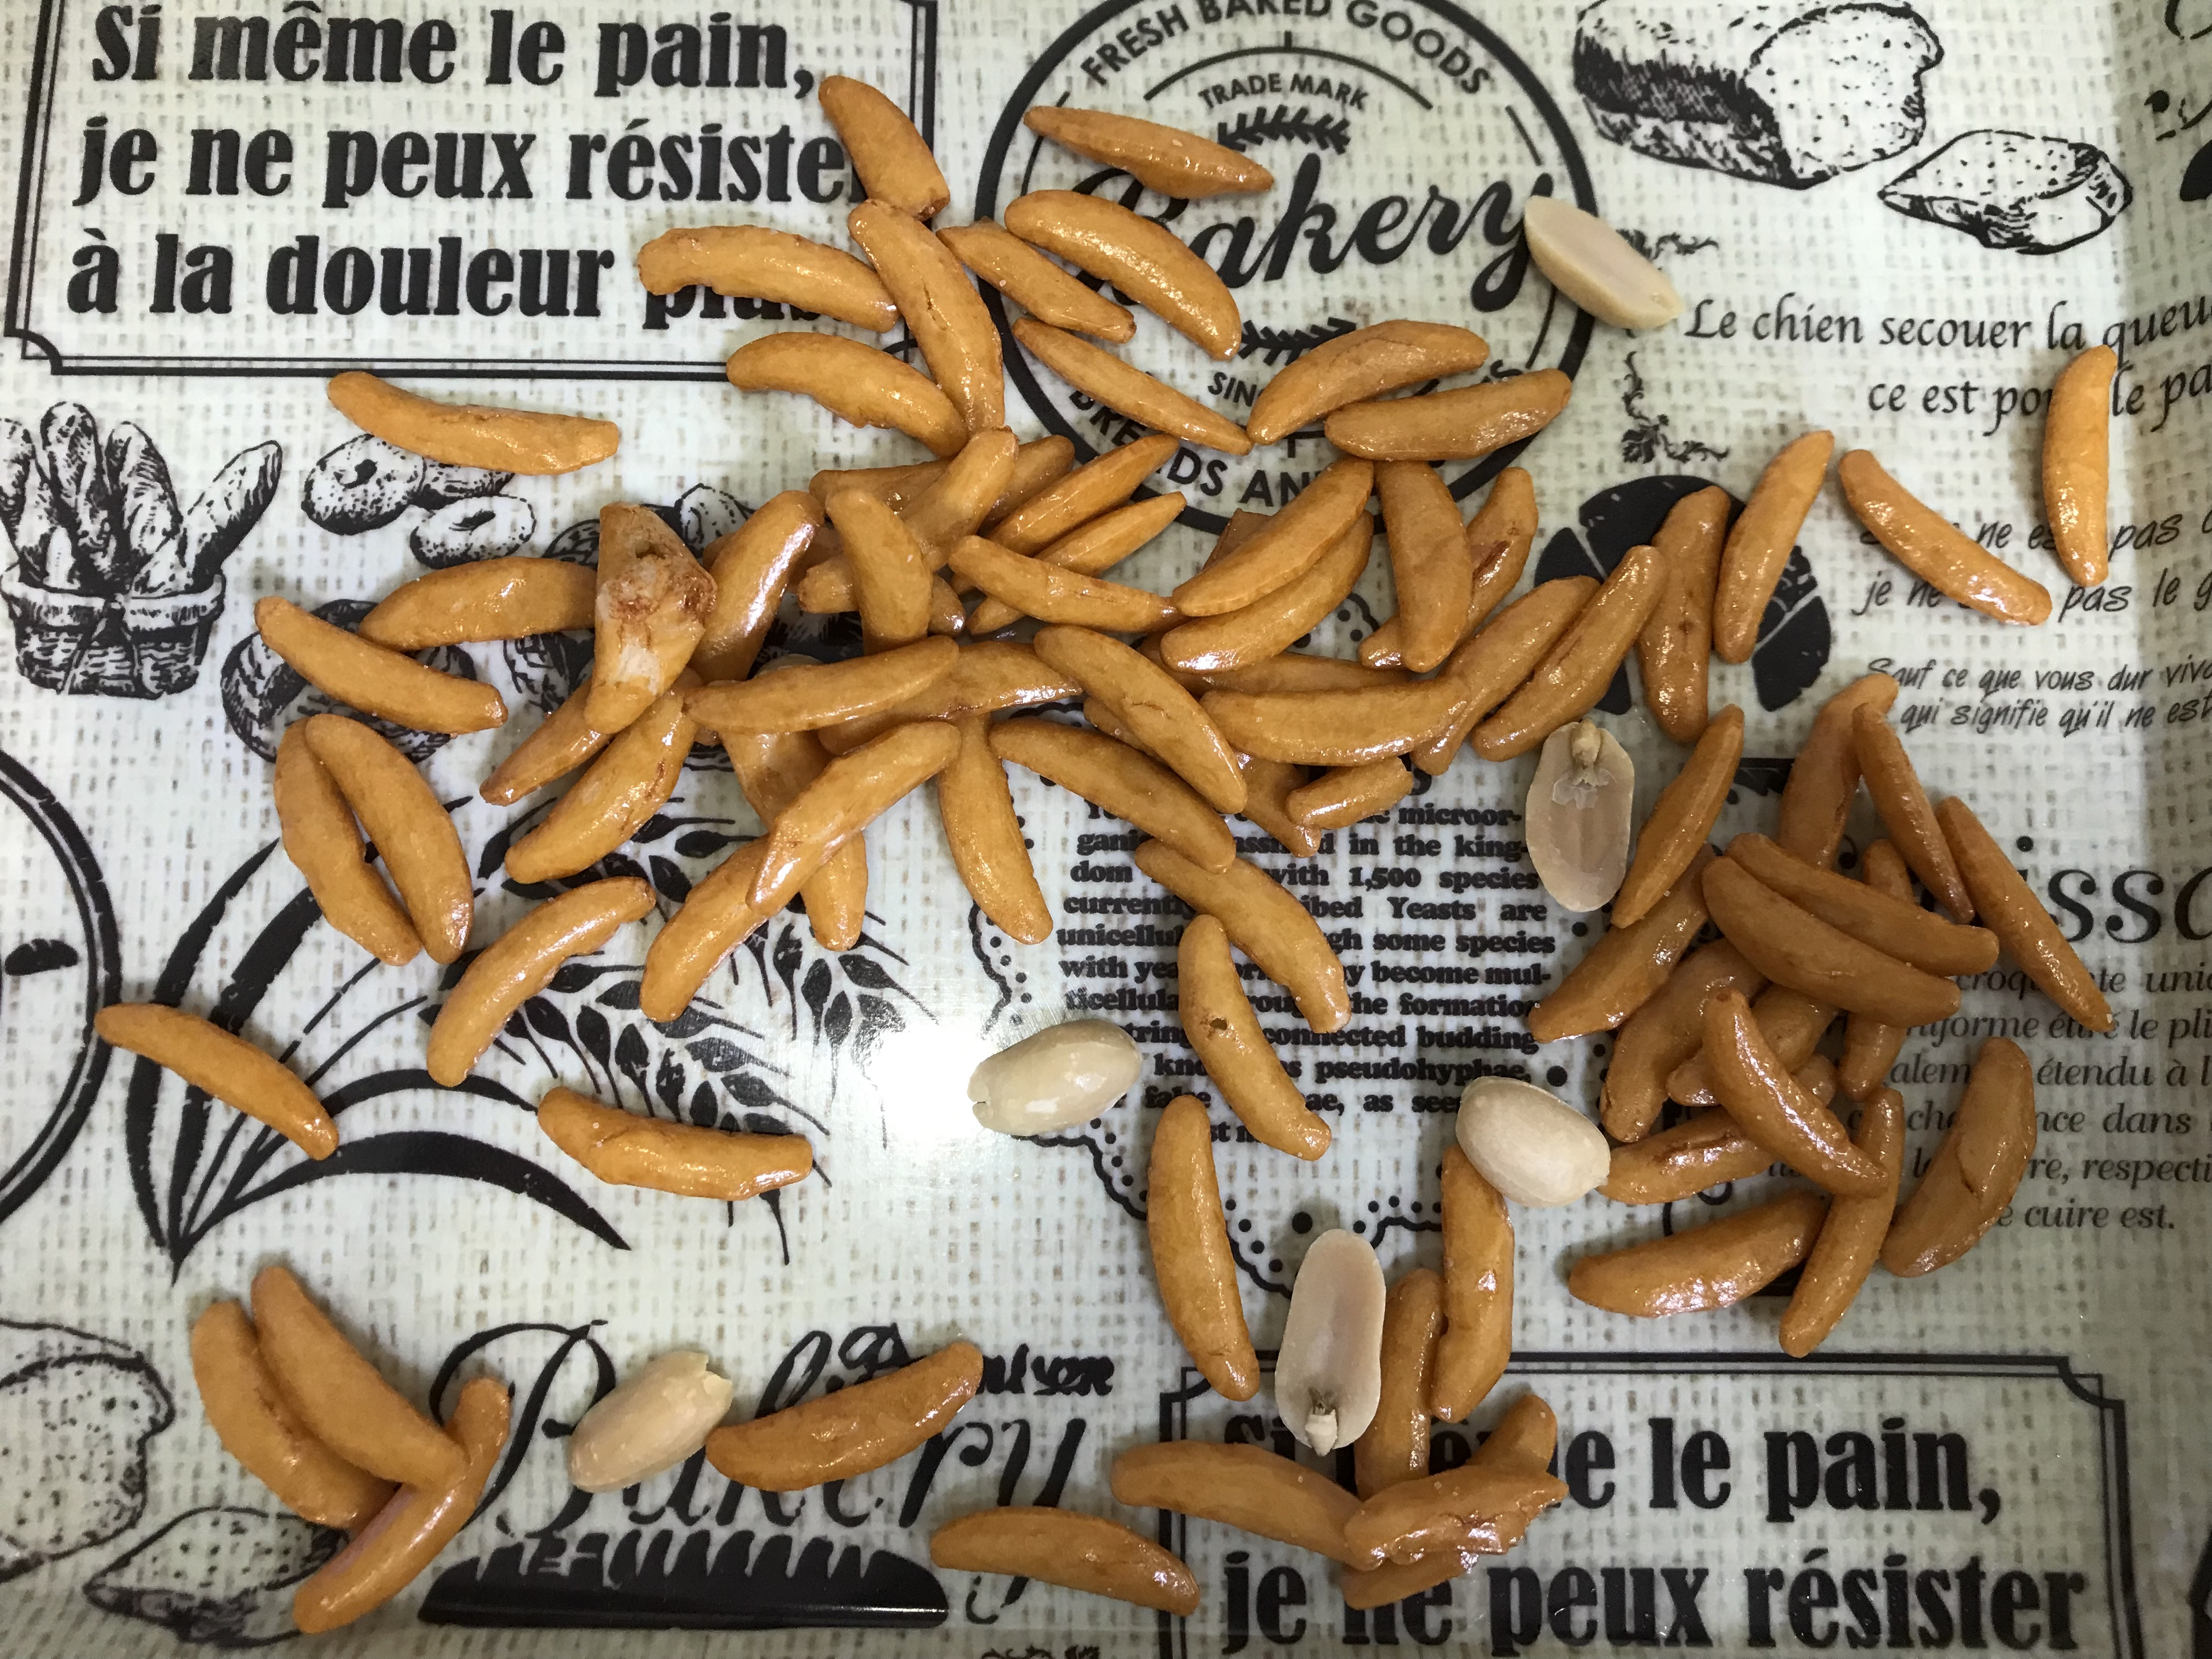peanut: (552, 1337, 752, 1507), (1263, 1213, 1397, 1466), (1517, 178, 1693, 354), (1517, 709, 1635, 934), (967, 1009, 1146, 1157), (1446, 1066, 1625, 1213)
